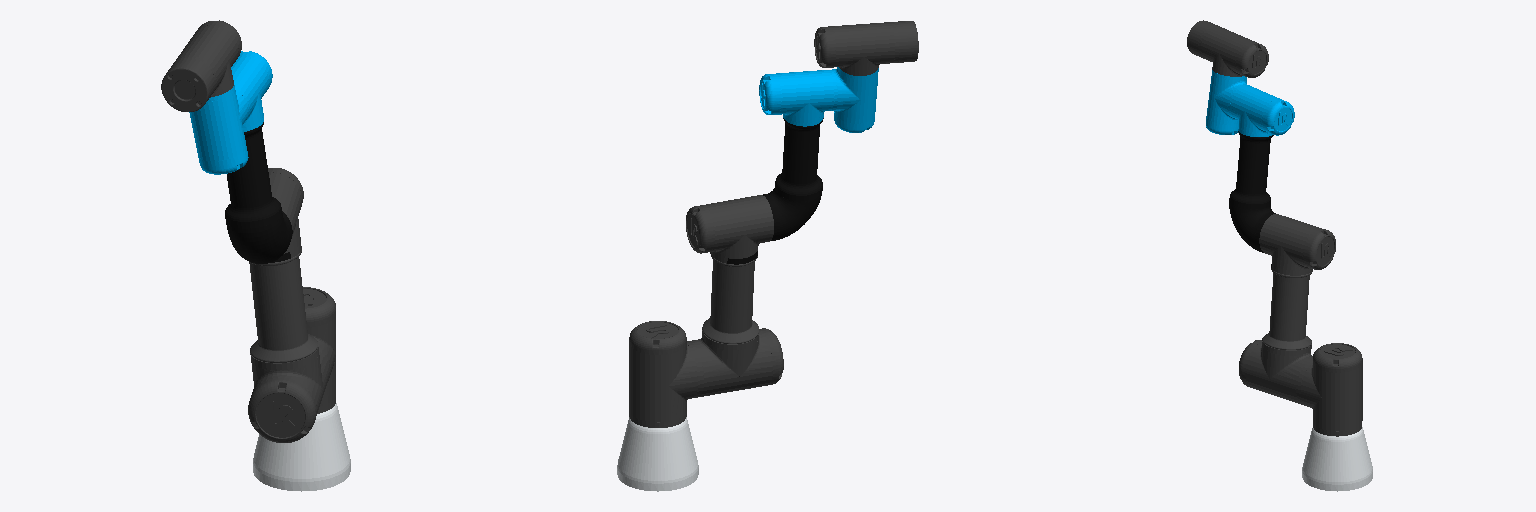
robot.urdf — UR3_Assembly:
<?xml version="1.0" encoding="utf-8"?>
<!-- This URDF was automatically created by SolidWorks to URDF Exporter! Originally created by [author] ([email redacted]) 
     Commit Version: 1.6.0-4-g7f85cfe  Build Version: 1.6.7995.38578
     For more information, please see http://wiki.ros.org/sw_urdf_exporter -->
<robot
  name="UR3_Assembly">
  <link
    name="base_link">
    <inertial>
      <origin
        xyz="0.115730098013254 -0.0911496694687476 0.0634177790507186"
        rpy="0 0 0" />
      <mass
        value="2.65145043916468" />
      <inertia
        ixx="0.00437179269564763"
        ixy="2.92879474816591E-35"
        ixz="-2.39260158201781E-35"
        iyy="0.00437179269564763"
        iyz="-3.27146474496848E-19"
        izz="0.00438480872973141" />
    </inertial>
    <visual>
      <origin
        xyz="0 0 0"
        rpy="0 0 0" />
      <geometry>
        <mesh
          filename="package://UR3_Assembly/meshes/base_link.STL" />
      </geometry>
      <material
        name="">
        <color
          rgba="0.898039215686275 0.917647058823529 0.929411764705882 1" />
      </material>
    </visual>
    <collision>
      <origin
        xyz="0 0 0"
        rpy="0 0 0" />
      <geometry>
        <mesh
          filename="package://UR3_Assembly/meshes/base_link.STL" />
      </geometry>
    </collision>
  </link>
  <link
    name="first_link">
    <inertial>
      <origin
        xyz="0.00510797950832012 0.063262556308936 3.63073702353001E-07"
        rpy="0 0 0" />
      <mass
        value="0.806816715294919" />
      <inertia
        ixx="0.00132079661195612"
        ixy="-1.72167081908303E-05"
        ixz="1.38902963390804E-08"
        iyy="0.000966684561983695"
        iyz="-2.21358720364282E-09"
        izz="0.00142124758620699" />
    </inertial>
    <visual>
      <origin
        xyz="0 0 0"
        rpy="0 0 0" />
      <geometry>
        <mesh
          filename="package://UR3_Assembly/meshes/first_link.STL" />
      </geometry>
      <material
        name="">
        <color
          rgba="0.298039215686275 0.298039215686275 0.298039215686275 1" />
      </material>
    </visual>
    <collision>
      <origin
        xyz="0 0 0"
        rpy="0 0 0" />
      <geometry>
        <mesh
          filename="package://UR3_Assembly/meshes/first_link.STL" />
      </geometry>
    </collision>
  </link>
  <joint
    name="first_joint"
    type="revolute">
    <origin
      xyz="0.11573 -0.09115 0.12164"
      rpy="1.5708 0 -2.2348" />
    <parent
      link="base_link" />
    <child
      link="first_link" />
    <axis
      xyz="0 1 0" />
    <limit
      lower="-6.28"
      upper="6.28"
      effort="10"
      velocity="100" />
  </joint>
  <link
    name="second_link">
    <inertial>
      <origin
        xyz="0.113483048940672 0.0653101952125634 9.38975048714319E-07"
        rpy="0 0 0" />
      <mass
        value="2.81340581300353" />
      <inertia
        ixx="0.00282809240557842"
        ixy="-2.17072051682344E-05"
        ixz="-3.79933638332543E-08"
        iyy="0.00505547002740333"
        iyz="-2.19858323557216E-06"
        izz="0.00572420849238521" />
    </inertial>
    <visual>
      <origin
        xyz="0 0 0"
        rpy="0 0 0" />
      <geometry>
        <mesh
          filename="package://UR3_Assembly/meshes/second_link.STL" />
      </geometry>
      <material
        name="">
        <color
          rgba="0.298039215686275 0.298039215686275 0.298039215686275 1" />
      </material>
    </visual>
    <collision>
      <origin
        xyz="0 0 0"
        rpy="0 0 0" />
      <geometry>
        <mesh
          filename="package://UR3_Assembly/meshes/second_link.STL" />
      </geometry>
    </collision>
  </link>
  <joint
    name="second_joint"
    type="revolute">
    <origin
      xyz="0.055 0.066 0"
      rpy="3.1416 -0.10306 1.5708" />
    <parent
      link="first_link" />
    <child
      link="second_link" />
    <axis
      xyz="0 1 0" />
    <limit
      lower="-3.14"
      upper="3.14"
      effort="10"
      velocity="100" />
  </joint>
  <link
    name="third_link">
    <inertial>
      <origin
        xyz="0.0888600616857061 -0.0461383689444906 0.00319654075879075"
        rpy="0 0 0" />
      <mass
        value="1.25327255661744" />
      <inertia
        ixx="0.000657018633006924"
        ixy="5.76194775301552E-05"
        ixz="-4.98864703730121E-05"
        iyy="0.00201508634983225"
        iyz="2.06830591517436E-06"
        izz="0.0020417686354171" />
    </inertial>
    <visual>
      <origin
        xyz="0 0 0"
        rpy="0 0 0" />
      <geometry>
        <mesh
          filename="package://UR3_Assembly/meshes/third_link.STL" />
      </geometry>
      <material
        name="">
        <color
          rgba="0.101960784313725 0.101960784313725 0.101960784313725 1" />
      </material>
    </visual>
    <collision>
      <origin
        xyz="0 0 0"
        rpy="0 0 0" />
      <geometry>
        <mesh
          filename="package://UR3_Assembly/meshes/third_link.STL" />
      </geometry>
    </collision>
  </link>
  <joint
    name="third_joint"
    type="revolute">
    <origin
      xyz="0.255 0.121 0.0005635"
      rpy="-3.1313 0 0" />
    <parent
      link="second_link" />
    <child
      link="third_link" />
    <axis
      xyz="0 1 0" />
    <limit
      lower="-3.14"
      upper="3.14"
      effort="10"
      velocity="100" />
  </joint>
  <link
    name="fourth_link">
    <inertial>
      <origin
        xyz="7.63379934305419E-05 -0.0428059050849966 0.00426254367785278"
        rpy="0 0 0" />
      <mass
        value="0.30889512913295" />
      <inertia
        ixx="0.000283256888436591"
        ixy="2.25344542085988E-08"
        ixz="-3.74203413816573E-07"
        iyy="0.000195169678963978"
        iyz="1.28509357019572E-06"
        izz="0.000262555742468961" />
    </inertial>
    <visual>
      <origin
        xyz="0 0 0"
        rpy="0 0 0" />
      <geometry>
        <mesh
          filename="package://UR3_Assembly/meshes/fourth_link.STL" />
      </geometry>
      <material
        name="">
        <color
          rgba="0 0.725490196078431 1 1" />
      </material>
    </visual>
    <collision>
      <origin
        xyz="0 0 0"
        rpy="0 0 0" />
      <geometry>
        <mesh
          filename="package://UR3_Assembly/meshes/fourth_link.STL" />
      </geometry>
    </collision>
  </link>
  <joint
    name="foruth_joint"
    type="revolute">
    <origin
      xyz="0.22464 -0.0057068 0.00011371"
      rpy="-1.8649 -1.3854 1.8633" />
    <parent
      link="third_link" />
    <child
      link="fourth_link" />
    <axis
      xyz="0 1 0" />
    <limit
      lower="-6.28"
      upper="6.28"
      effort="10"
      velocity="100" />
  </joint>
  <link
    name="fifth_link">
    <inertial>
      <origin
        xyz="5.45482043716183E-05 -0.0427871400543967 -0.0039516959698899"
        rpy="0 0 0" />
      <mass
        value="0.306273745143421" />
      <inertia
        ixx="0.000281969418245706"
        ixy="1.71733352223334E-08"
        ixz="2.97933729633028E-07"
        iyy="0.000193879830366177"
        iyz="-1.28771896075081E-06"
        izz="0.00025998936740049" />
    </inertial>
    <visual>
      <origin
        xyz="0 0 0"
        rpy="0 0 0" />
      <geometry>
        <mesh
          filename="package://UR3_Assembly/meshes/fifth_link.STL" />
      </geometry>
      <material
        name="">
        <color
          rgba="0 0.725490196078431 1 1" />
      </material>
    </visual>
    <collision>
      <origin
        xyz="0 0 0"
        rpy="0 0 0" />
      <geometry>
        <mesh
          filename="package://UR3_Assembly/meshes/fifth_link.STL" />
      </geometry>
    </collision>
  </link>
  <joint
    name="fifth_joint"
    type="revolute">
    <origin
      xyz="-0.0011884 -0.1285 0.044984"
      rpy="1.5704 -0.026408 0.013751" />
    <parent
      link="fourth_link" />
    <child
      link="fifth_link" />
    <axis
      xyz="0 1 0" />
    <limit
      lower="-6.28"
      upper="6.28"
      effort="10"
      velocity="100" />
  </joint>
  <link
    name="sixth_link">
    <inertial>
      <origin
        xyz="0.00189837004808013 0.00853090126049849 -1.08550831989795E-07"
        rpy="0 0 0" />
      <mass
        value="0.637771345203638" />
      <inertia
        ixx="0.000440097722083551"
        ixy="-4.05893747238349E-06"
        ixz="4.25523915605571E-09"
        iyy="0.000368990444116953"
        iyz="4.65415752039732E-10"
        izz="0.000462535730726246" />
    </inertial>
    <visual>
      <origin
        xyz="0 0 0"
        rpy="0 0 0" />
      <geometry>
        <mesh
          filename="package://UR3_Assembly/meshes/sixth_link.STL" />
      </geometry>
      <material
        name="">
        <color
          rgba="0.298039215686275 0.298039215686275 0.298039215686275 1" />
      </material>
    </visual>
    <collision>
      <origin
        xyz="0 0 0"
        rpy="0 0 0" />
      <geometry>
        <mesh
          filename="package://UR3_Assembly/meshes/sixth_link.STL" />
      </geometry>
    </collision>
  </link>
  <joint
    name="sixth_joint"
    type="revolute">
    <origin
      xyz="-0.00056474 -0.1285 0.042996"
      rpy="-1.5839 0 1.5708" />
    <parent
      link="fifth_link" />
    <child
      link="sixth_link" />
    <axis
      xyz="0 1 0" />
    <limit
      lower="-6.28"
      upper="6.28"
      effort="10"
      velocity="100" />
  </joint>
</robot>

--- Render facts (derived) ---
3 views of the same robot in one strip: view 1: azimuth 30°, elevation 25°; view 2: azimuth 150°, elevation 25°; view 3: azimuth 270°, elevation 25° (orthographic).
Robot: UR3_Assembly — 7 links, 6 joints (6 revolute); root link base_link; default pose: all joints at 0.
Visible links, largest first — view 1: second_link, third_link, base_link, sixth_link, fifth_link, first_link, fourth_link; view 2: second_link, first_link, base_link, sixth_link, third_link, fourth_link, fifth_link; view 3: second_link, first_link, base_link, third_link, sixth_link, fourth_link, fifth_link.
Boxes of the visible links, x1=… form: second_link: x1=248, y1=168, x2=330, y2=442; third_link: x1=225, y1=122, x2=292, y2=263; base_link: x1=253, y1=403, x2=350, y2=491; sixth_link: x1=161, y1=20, x2=241, y2=111; fifth_link: x1=189, y1=85, x2=248, y2=174; first_link: x1=303, y1=287, x2=335, y2=413; fourth_link: x1=231, y1=51, x2=272, y2=131; second_link: x1=686, y1=195, x2=783, y2=397; first_link: x1=629, y1=321, x2=697, y2=427; base_link: x1=617, y1=417, x2=698, y2=491; sixth_link: x1=814, y1=21, x2=918, y2=75; third_link: x1=727, y1=118, x2=823, y2=264; fourth_link: x1=759, y1=70, x2=837, y2=126; fifth_link: x1=832, y1=67, x2=878, y2=132; second_link: x1=1239, y1=214, x2=1335, y2=405; first_link: x1=1301, y1=343, x2=1362, y2=436; base_link: x1=1302, y1=427, x2=1372, y2=491; third_link: x1=1229, y1=131, x2=1275, y2=267; sixth_link: x1=1187, y1=20, x2=1268, y2=77; fourth_link: x1=1228, y1=84, x2=1294, y2=136; fifth_link: x1=1206, y1=70, x2=1246, y2=134.
Size in the robot's own frame: 0.4068 by 0.3364 by 0.7619 metres.
7 mesh visuals loaded from 7 distinct referenced files (7 binary STL).